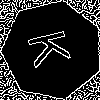K: (27, 25, 81, 69)
